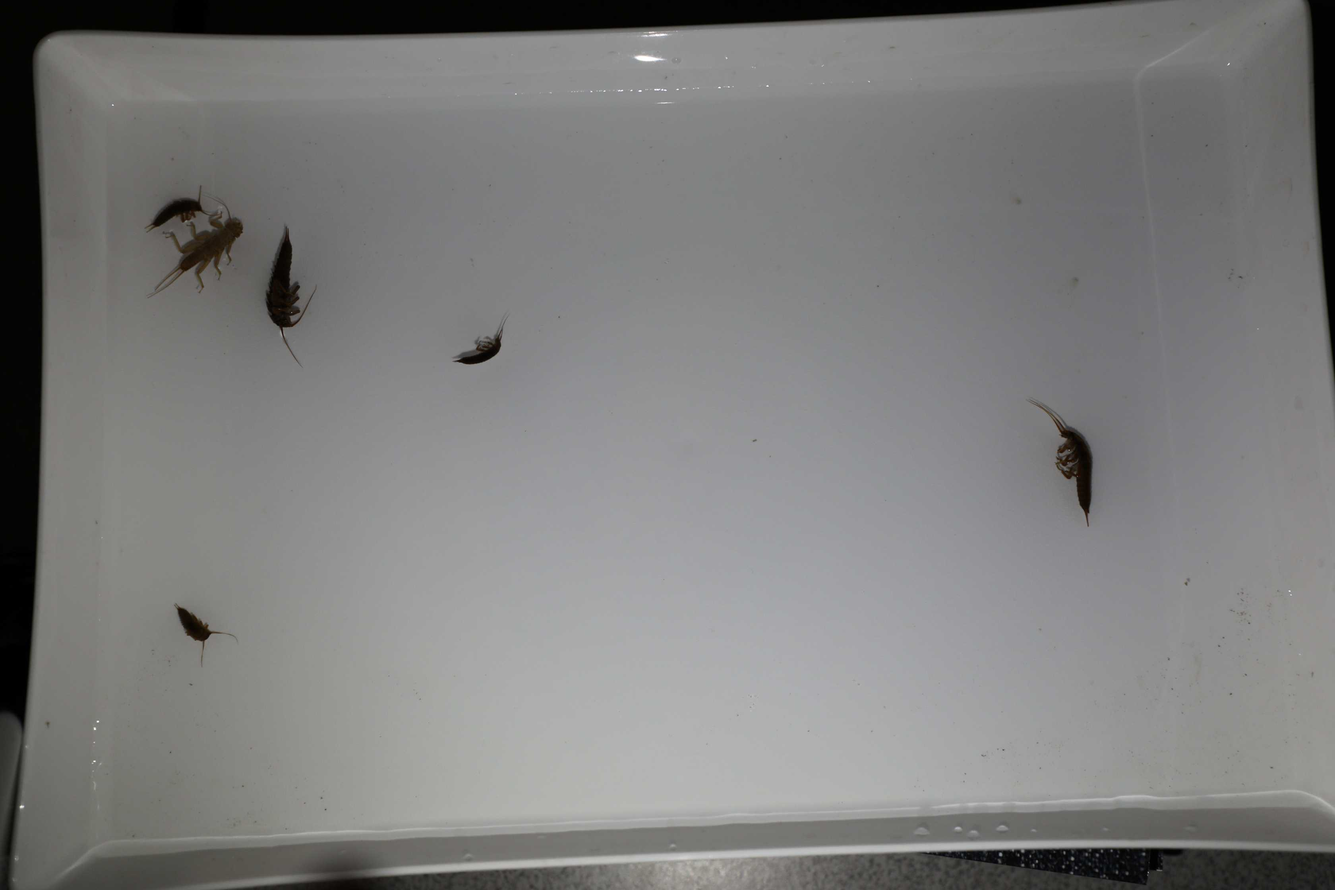Stonefly: (147, 200, 241, 301), (1025, 398, 1095, 532), (266, 225, 320, 368), (173, 606, 239, 664), (449, 312, 514, 368), (142, 188, 203, 234)
